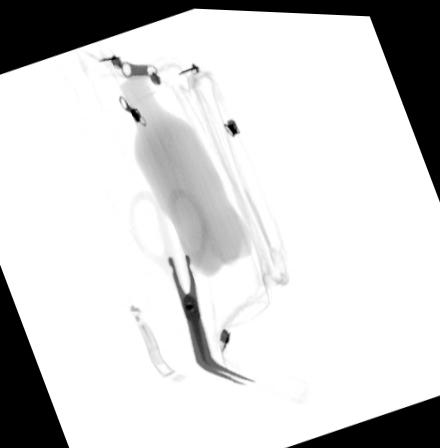Scissors: (127, 182, 256, 382)
